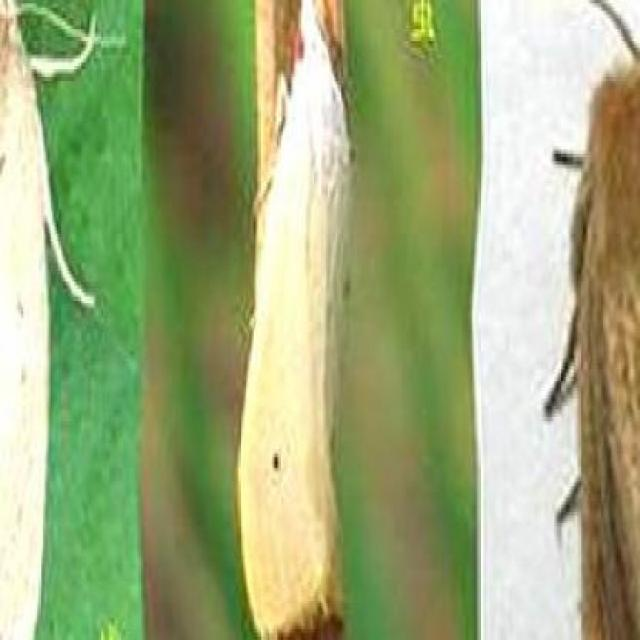stem-borer: (235, 0, 354, 640)
